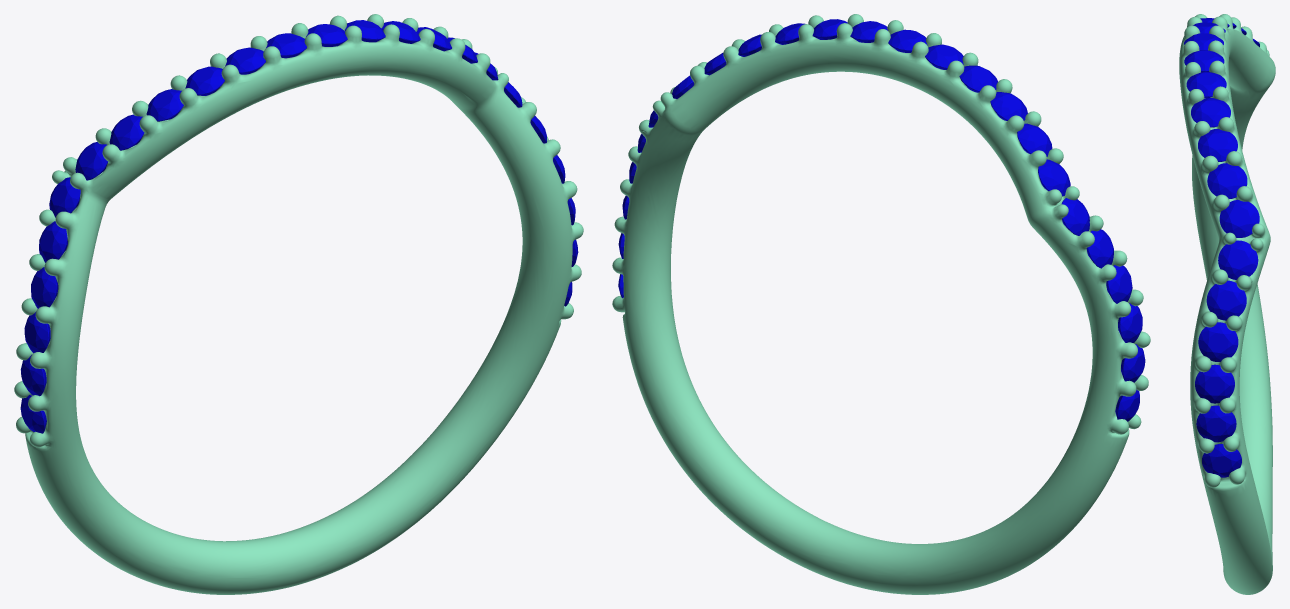
3 views of the same model, side by side, from view 1: azimuth 30°, elevation 25°; view 2: azimuth 150°, elevation 25°; view 3: azimuth 270°, elevation 25° (orthographic). The views are drawn at different scales.
Visible parts, largest first — view 1: Metal03, Diamond_Band.016, Diamond_Band.019, Diamond_Band.015, Diamond_Band.017, Diamond_Band.020, Diamond_Band.014, Diamond_Band.018, Diamond_Band.013, Diamond_Band.021; view 2: Metal03, Diamond_Band.017, Diamond_Band.016, Diamond_Band.018, Diamond_Band.015, Diamond_Band.019, Diamond_Band.014, Diamond_Band.020; view 3: Metal03, Diamond_Band.003, Diamond_Band.004, Diamond_Band.005, Diamond_Band.006, Diamond_Band.002, Diamond_Band.001, Diamond_Band.007, Diamond_Band.008, Diamond_Band, Diamond_Band.009, Diamond_Band.010 (+3 smaller).
Boxes of the visible parts, box(x1,y1,x2,y2) form: Metal03: box(14, 14, 583, 594); Diamond_Band.016: box(109, 114, 144, 150); Diamond_Band.019: box(39, 221, 67, 262); Diamond_Band.015: box(146, 89, 183, 121); Diamond_Band.017: box(75, 142, 107, 180); Diamond_Band.020: box(31, 267, 58, 308); Diamond_Band.014: box(185, 66, 224, 95); Diamond_Band.018: box(49, 177, 80, 217); Diamond_Band.013: box(225, 47, 265, 74); Diamond_Band.021: box(24, 312, 50, 353); Metal03: box(612, 14, 1150, 594); Diamond_Band.017: box(1038, 159, 1070, 196); Diamond_Band.016: box(1017, 123, 1052, 156); Diamond_Band.018: box(1061, 198, 1089, 235); Diamond_Band.015: box(990, 92, 1027, 120); Diamond_Band.019: box(1086, 229, 1113, 268); Diamond_Band.014: box(959, 65, 997, 92); Diamond_Band.020: box(1106, 265, 1132, 303); Metal03: box(1179, 14, 1275, 594); Diamond_Band.003: box(1198, 322, 1238, 361); Diamond_Band.004: box(1206, 280, 1246, 320); Diamond_Band.005: box(1218, 240, 1258, 279); Diamond_Band.006: box(1219, 200, 1259, 237); Diamond_Band.002: box(1195, 364, 1234, 403); Diamond_Band.001: box(1196, 405, 1236, 442); Diamond_Band.007: box(1207, 163, 1247, 198); Diamond_Band.008: box(1198, 129, 1237, 161); Diamond_Band: box(1202, 444, 1241, 477); Diamond_Band.009: box(1191, 98, 1230, 127); Diamond_Band.010: box(1186, 71, 1226, 98).
Size of the model in its own units: 21.12 by 21.02 by 3.5.
